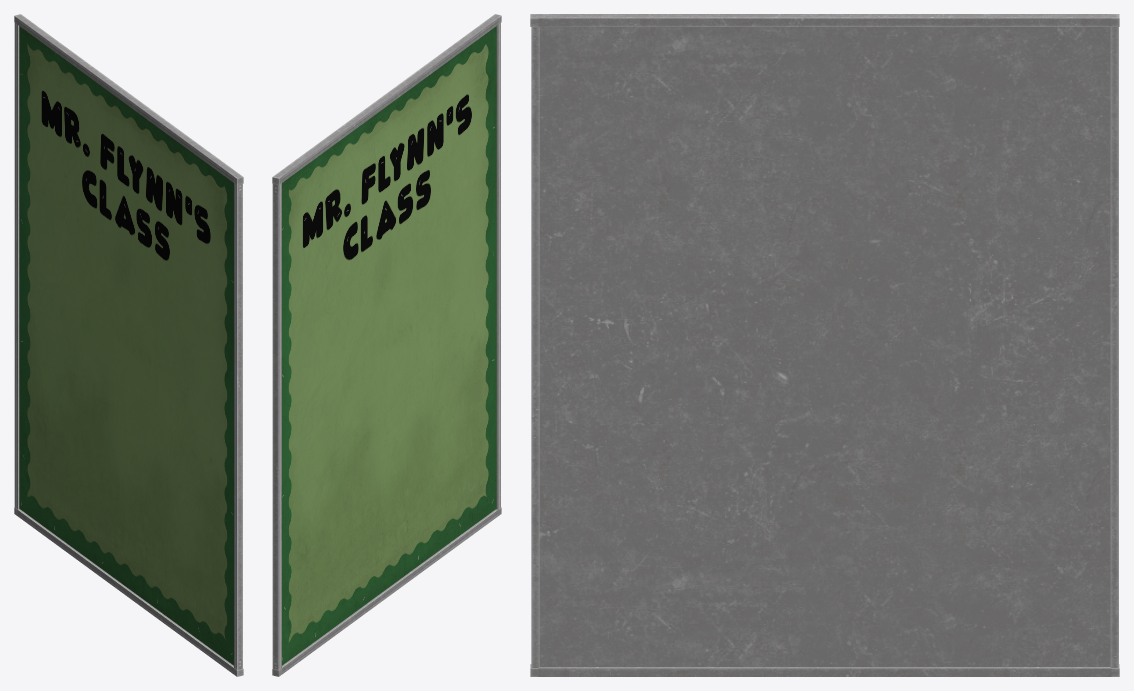
The model's file is SM_Wallboard_01a.fbx.
3 renders of one model, left to right at view 1: azimuth 30°, elevation 25°; view 2: azimuth 150°, elevation 25°; view 3: azimuth 270°, elevation 25°, orthographic. The views are drawn at different scales.
Parts seen in each view (by area): view 1: SM_Wallboard_01a_LOD0; view 2: SM_Wallboard_01a_LOD0; view 3: SM_Wallboard_01a_LOD0.
Boxes of the visible parts, x1=… form: SM_Wallboard_01a_LOD0: x1=14, y1=14, x2=243, y2=676; SM_Wallboard_01a_LOD0: x1=272, y1=14, x2=501, y2=676; SM_Wallboard_01a_LOD0: x1=530, y1=14, x2=1119, y2=676.
Bounding box in the file's own units: 2.13 × 121 × 149.
